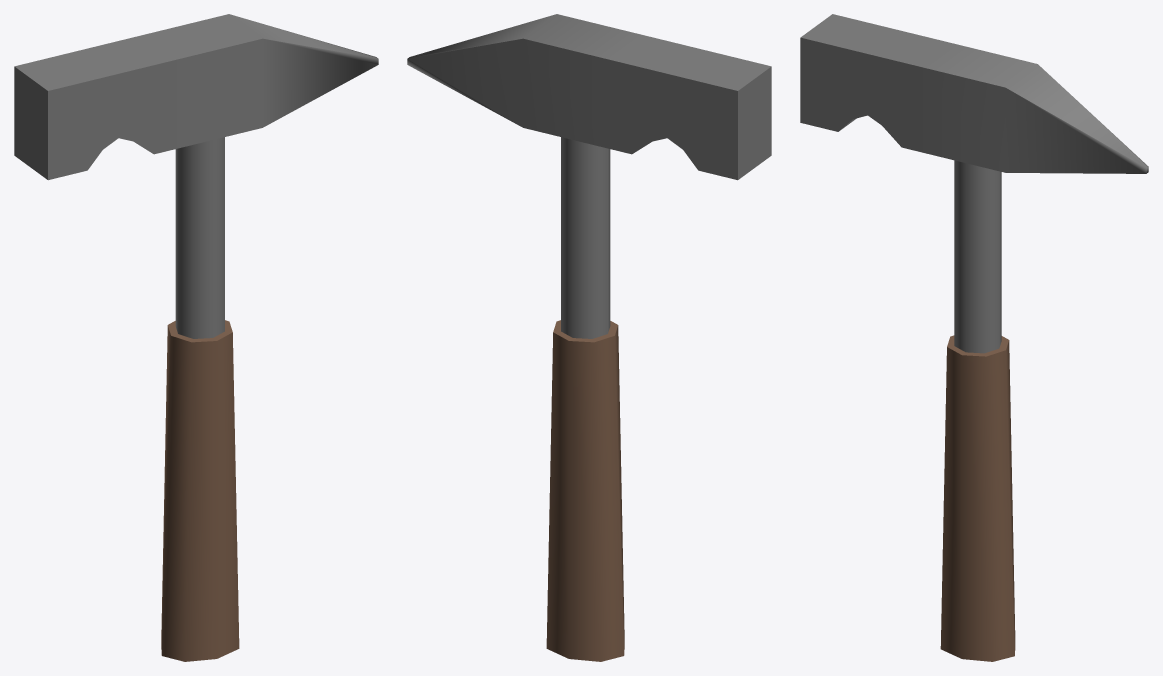
The model's file is Hammer.fbx.
3 renders of one model, left to right at view 1: azimuth 30°, elevation 25°; view 2: azimuth 150°, elevation 25°; view 3: azimuth 330°, elevation 25°, orthographic. The views are drawn at different scales.
Parts seen in each view (by area): view 1: Hammer; view 2: Hammer; view 3: Hammer.
Part boxes in pixels (box(x1,y1,x2,y2)): Hammer: box(14, 14, 378, 661); Hammer: box(407, 14, 771, 661); Hammer: box(800, 14, 1148, 661).
Bounding box in the file's own units: 0.3175 × 0.5336 × 0.0535.
